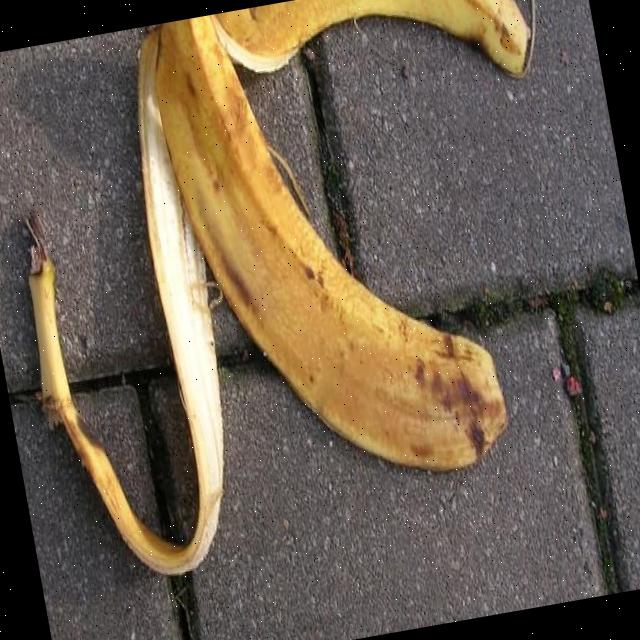banana-peel: (137, 0, 604, 512)
